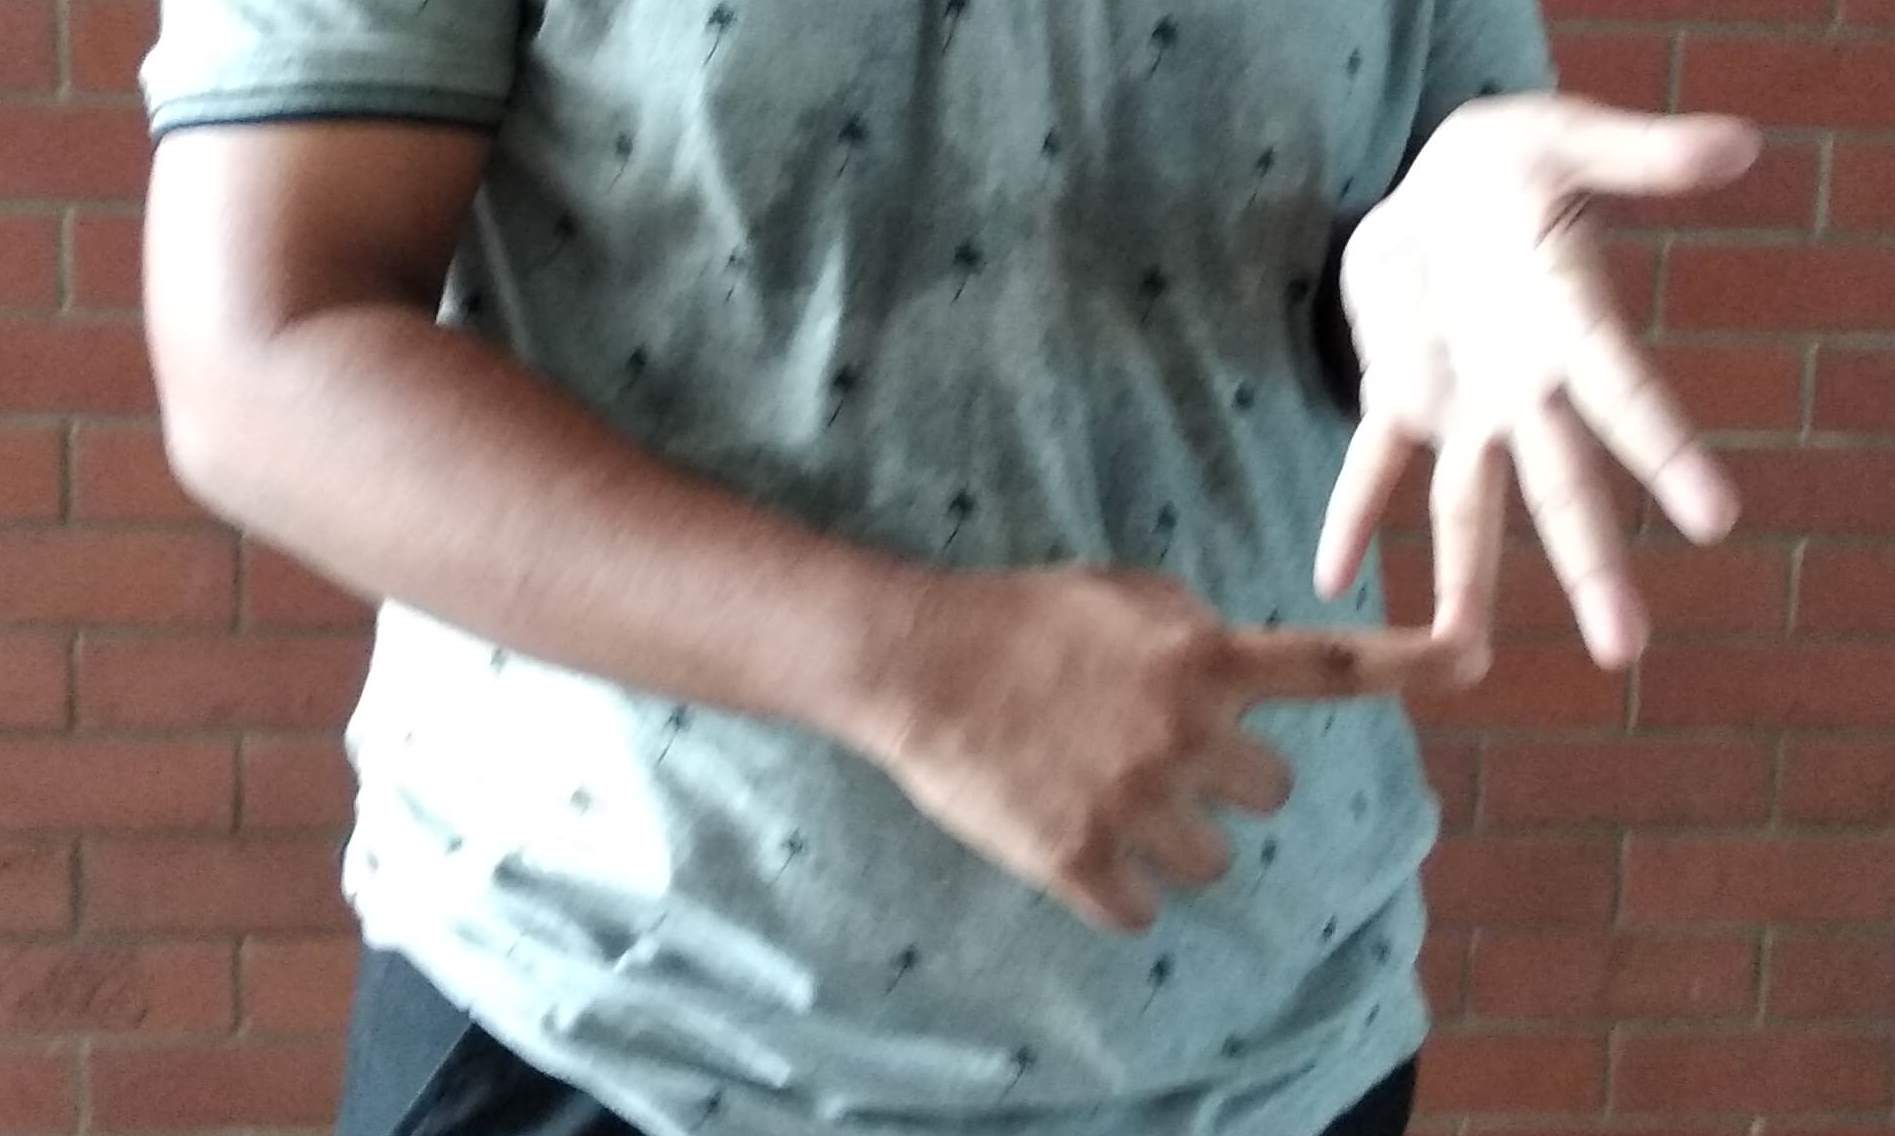e: (1084, 177, 1699, 960)
